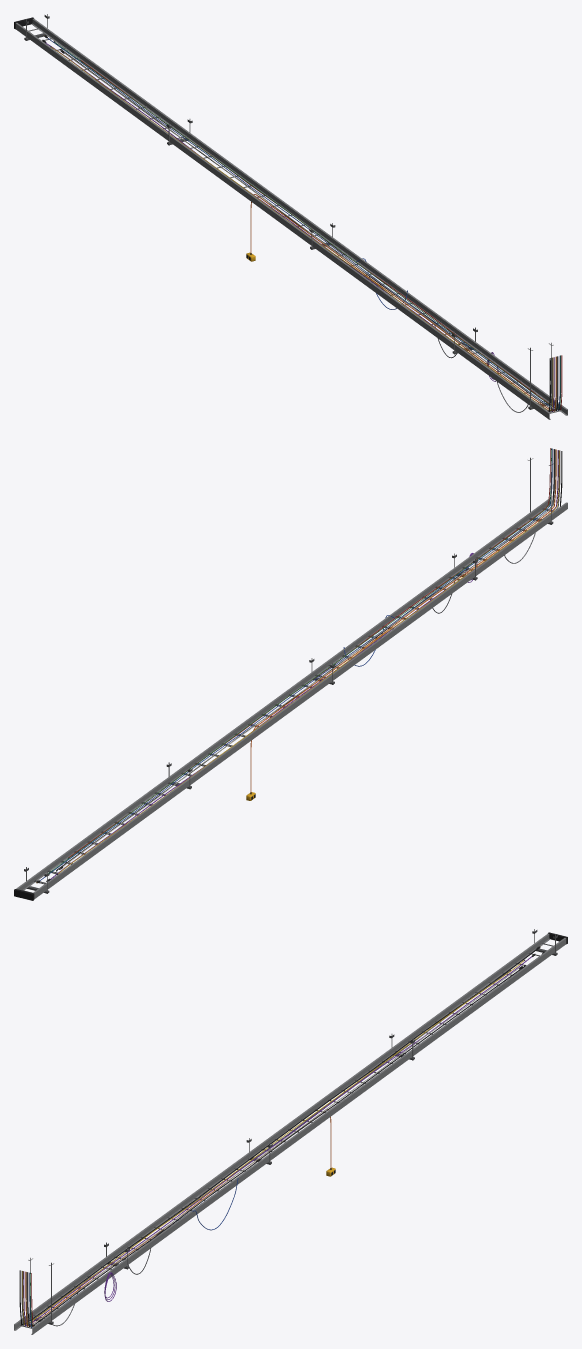
Rendered from cable-tray.glb.
The picture shows the model from 3 angles, top to bottom: view 1: azimuth 30°, elevation 25°; view 2: azimuth 150°, elevation 25°; view 3: azimuth 330°, elevation 25°; orthographic projection.
Visible parts, largest first — view 1: cable_tray_N42; view 2: cable_tray_N42; view 3: cable_tray_N42.
Boxes of the visible parts, <box> form: cable_tray_N42: <box>14,14,567,419</box>; cable_tray_N42: <box>14,448,567,900</box>; cable_tray_N42: <box>14,929,567,1334</box>.
Bounding box in the file's own units: 0.3 × 1.56 × 12.
2 materials, 2 textured.
